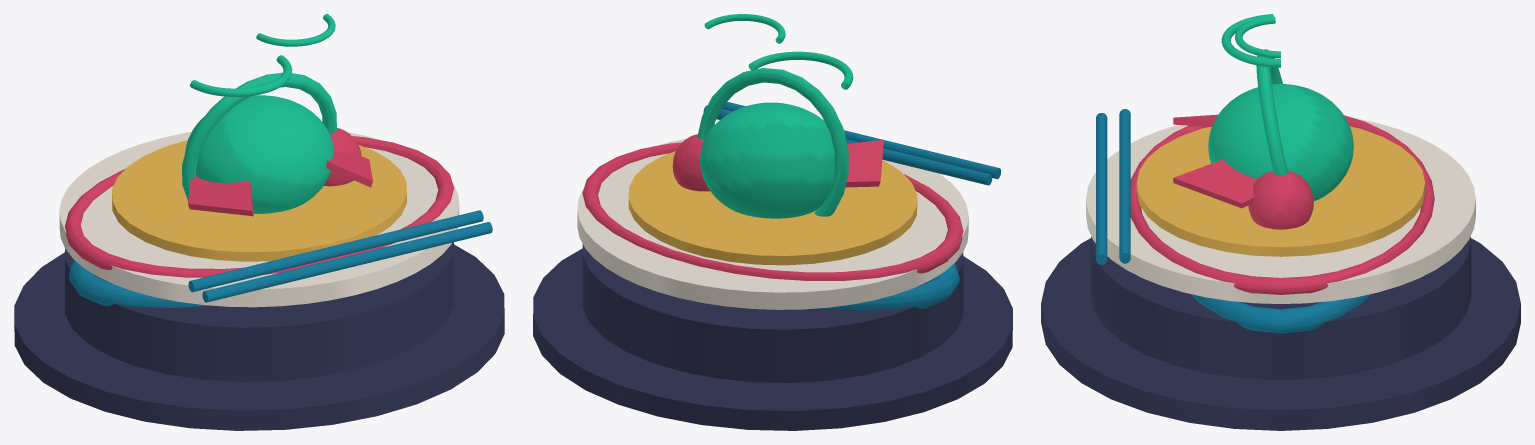
The model's file is 0337_揭秘食物图鉴_可可果.glb.
3 views of the same model, side by side, from view 1: azimuth 30°, elevation 25°; view 2: azimuth 150°, elevation 25°; view 3: azimuth 270°, elevation 25° (orthographic). The views are drawn at different scales.
Visible parts, largest first — view 1: card_0337; view 2: card_0337; view 3: card_0337.
Part boxes in pixels (box(x1,y1,x2,y2)): card_0337: box(14, 14, 504, 430); card_0337: box(533, 14, 1012, 430); card_0337: box(1041, 14, 1520, 430).
Bounding box in the file's own units: 1.51 × 1 × 1.42.
